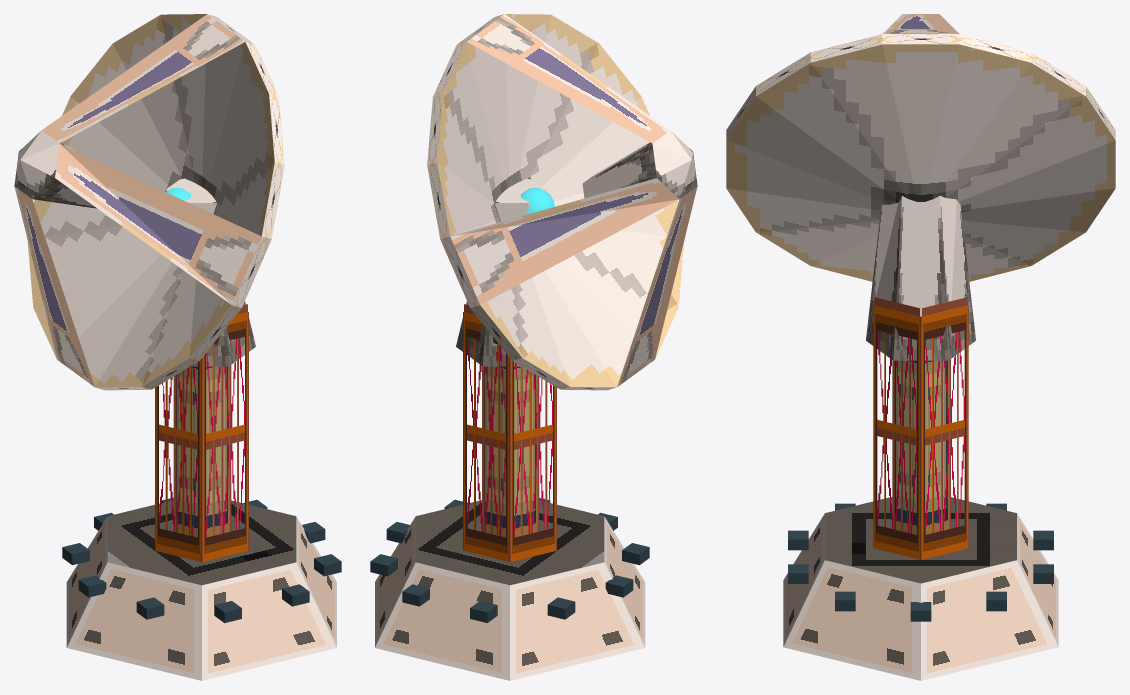
Rendered from scanner.glb.
3 views of the same model, side by side, from view 1: azimuth 30°, elevation 25°; view 2: azimuth 150°, elevation 25°; view 3: azimuth 270°, elevation 25° (orthographic).
Visible parts, largest first — view 1: scanner dish, scanner shaft, Pip5; view 2: scanner dish, scanner shaft, Feed, Pip7; view 3: scanner dish, scanner shaft.
Boxes of the visible parts, bbox=[...] form: scanner dish: bbox=[14, 14, 284, 390]; scanner shaft: bbox=[66, 304, 336, 680]; Pip5: bbox=[136, 597, 164, 619]; scanner dish: bbox=[427, 14, 697, 390]; scanner shaft: bbox=[375, 304, 645, 680]; Feed: bbox=[520, 188, 554, 214]; Pip7: bbox=[547, 597, 575, 619]; scanner dish: bbox=[726, 14, 1115, 360]; scanner shaft: bbox=[783, 297, 1058, 680].
Bounding box in the file's own units: 31.66 × 55.49 × 33.1.
Materials: 13 (2 with a texture image).
